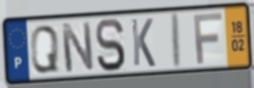F: (192, 11, 224, 66)
I: (171, 11, 183, 71)
K: (129, 17, 157, 69)
N: (59, 21, 96, 75)
Q: (29, 24, 61, 76)
S: (94, 17, 128, 74)
